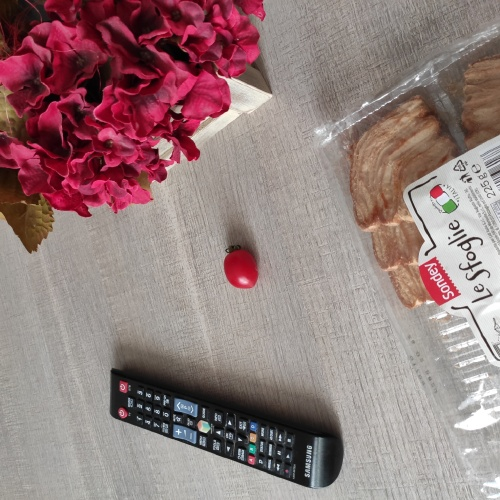pomodoro: (218, 238, 267, 297)
